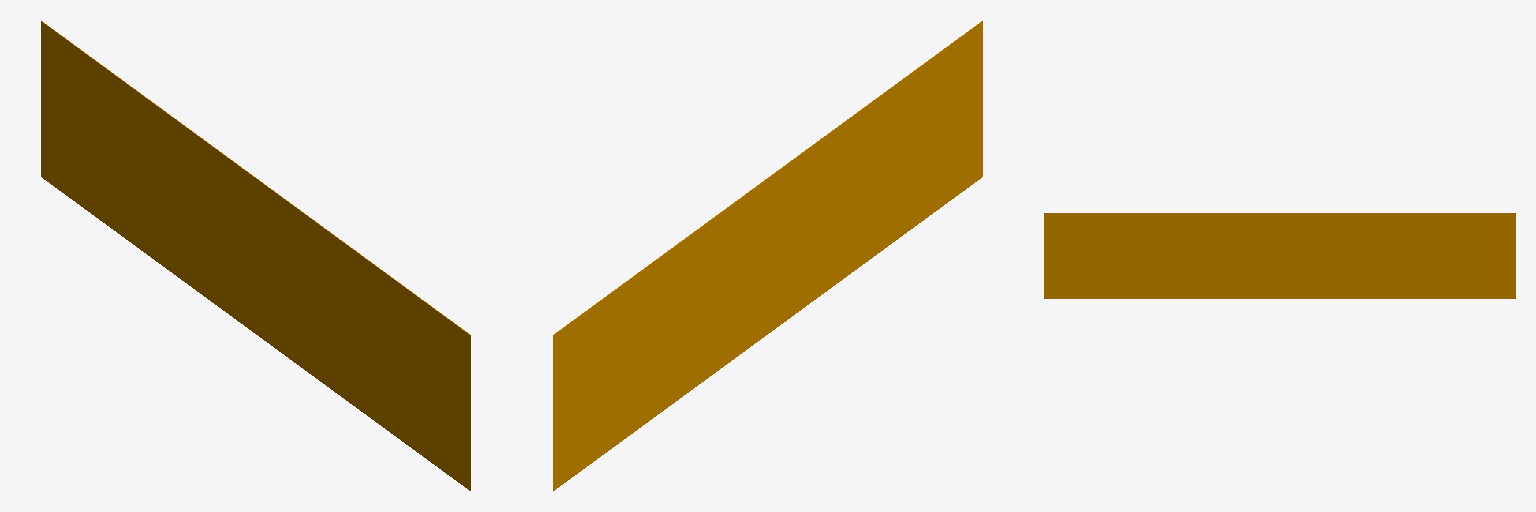
robot.urdf — front_wall:
<?xml version='1.0' encoding='UTF-8'?>
<robot name="front_wall">
  <link name="base_link">
    <inertial>
      <origin xyz="0.0 0.0 0.0" rpy="0.0 -0.0 0.0"/>
      <mass value="1.0"/>
      <inertia ixx="1.0" ixy="0.0" ixz="0.0" iyy="1.0" iyz="0.0" izz="1.0"/>
    </inertial>
    <visual name="base_link_visual">
      <geometry>
        <box size="0.1 100 20"/>
      </geometry>
      <origin xyz="0 5.0 5.0" rpy="3.14159 0 0"/>
    </visual>
    <collision name="base_link_collision">
      <geometry>
        <box size="0.1 100 20"/>
      </geometry>
      <origin xyz="0 5.0 5.0" rpy="3.14159 0 0"/>
    </collision>
  </link>
</robot>

--- Render facts (derived) ---
3 views of the same robot in one strip: view 1: azimuth 30°, elevation 25°; view 2: azimuth 150°, elevation 25°; view 3: azimuth 270°, elevation 25° (orthographic).
Model front_wall with 1 links and 0 joints (none), rooted at base_link, posed all joints at 0.
Links seen in each view (by area): view 1: base_link; view 2: base_link; view 3: base_link.
Boxes of the visible links, <box> form: base_link: <box>41,21,470,490</box>; base_link: <box>553,21,982,490</box>; base_link: <box>1044,213,1515,298</box>.
Bounding box of the posed robot: 0.1 × 100 × 20 m (x, y, z).
Geometry: primitives only (box / cylinder / sphere), no mesh files.